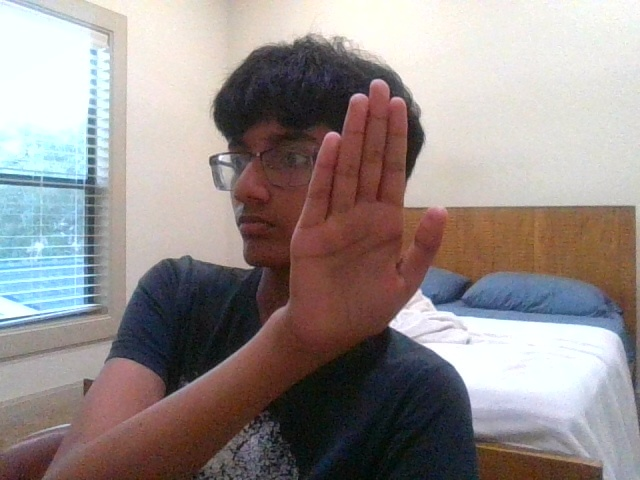hello: (290, 79, 449, 345)
